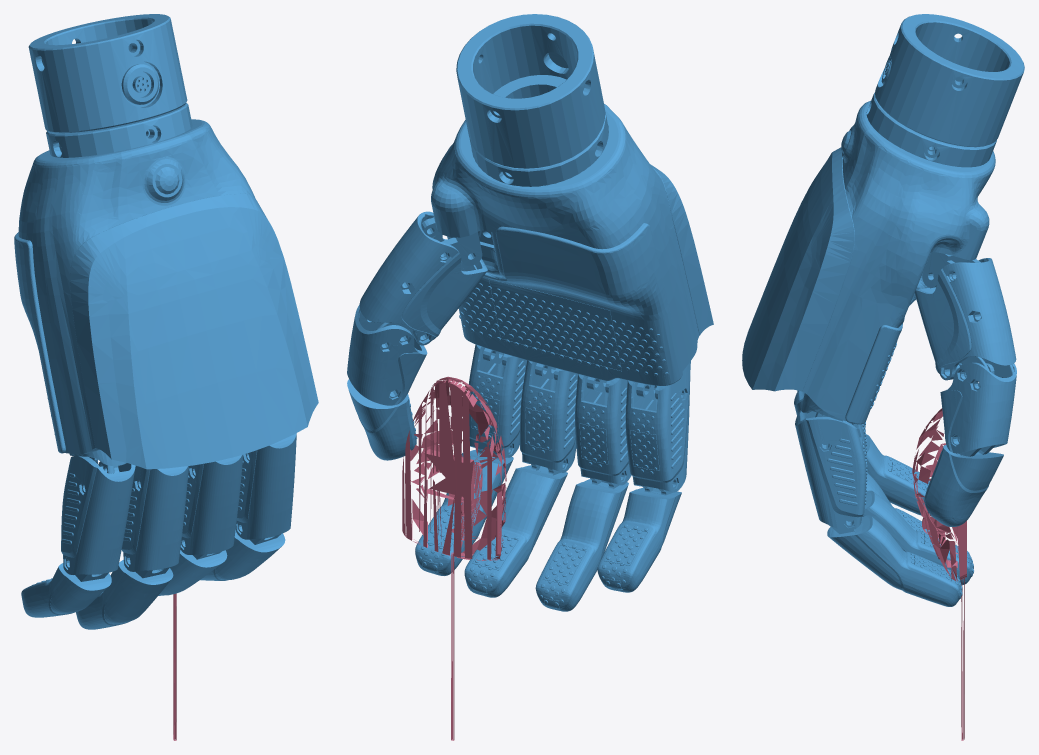
3 views of the same model, side by side, from view 1: azimuth 30°, elevation 25°; view 2: azimuth 150°, elevation 25°; view 3: azimuth 270°, elevation 25° (orthographic). The views are drawn at different scales.
Visible parts, largest first — view 1: 0; view 2: 0; view 3: 0.
Part boxes in pixels (x1,y1,x2,y2): 0: [14, 14, 318, 740]; 0: [347, 14, 713, 740]; 0: [742, 14, 1024, 740].
Size of the model in its own units: 0.1107 by 0.2846 by 0.1071.
